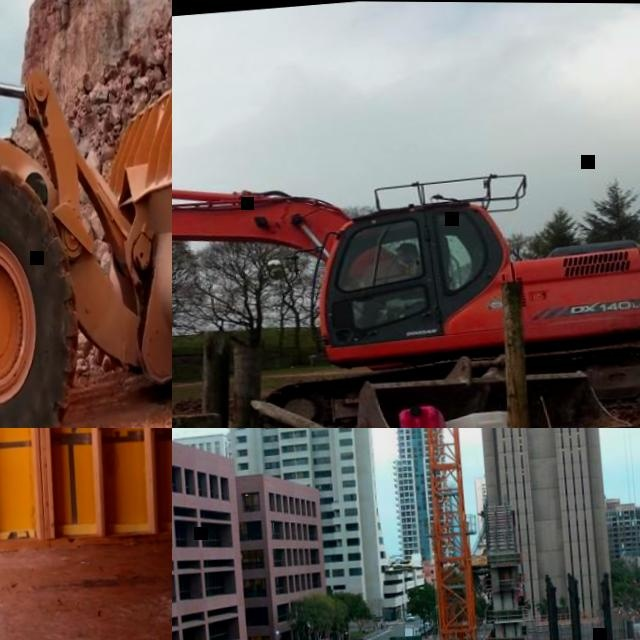NO-Hardhat: (395, 240, 417, 251)
Person: (350, 238, 428, 328)
machinery: (172, 91, 640, 428), (0, 0, 172, 428)
